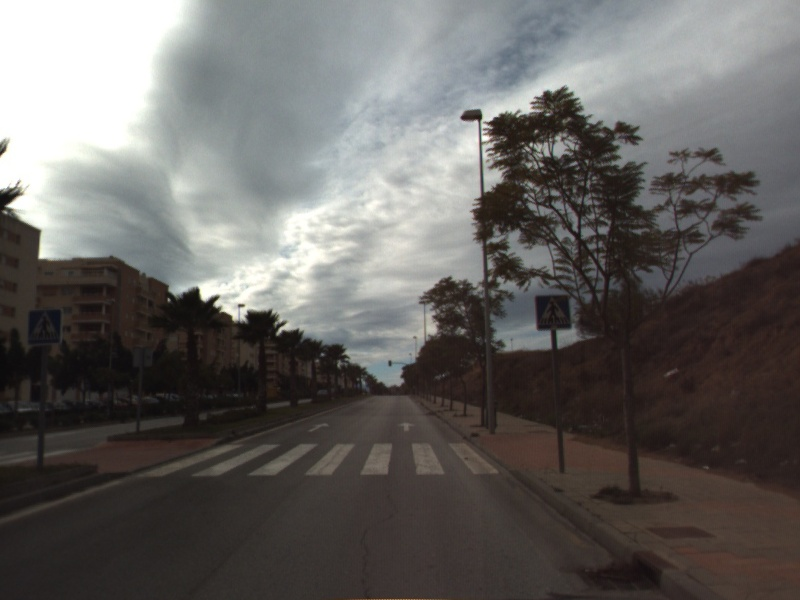STRAIGHT: (305, 421, 332, 434), (396, 420, 417, 433)
